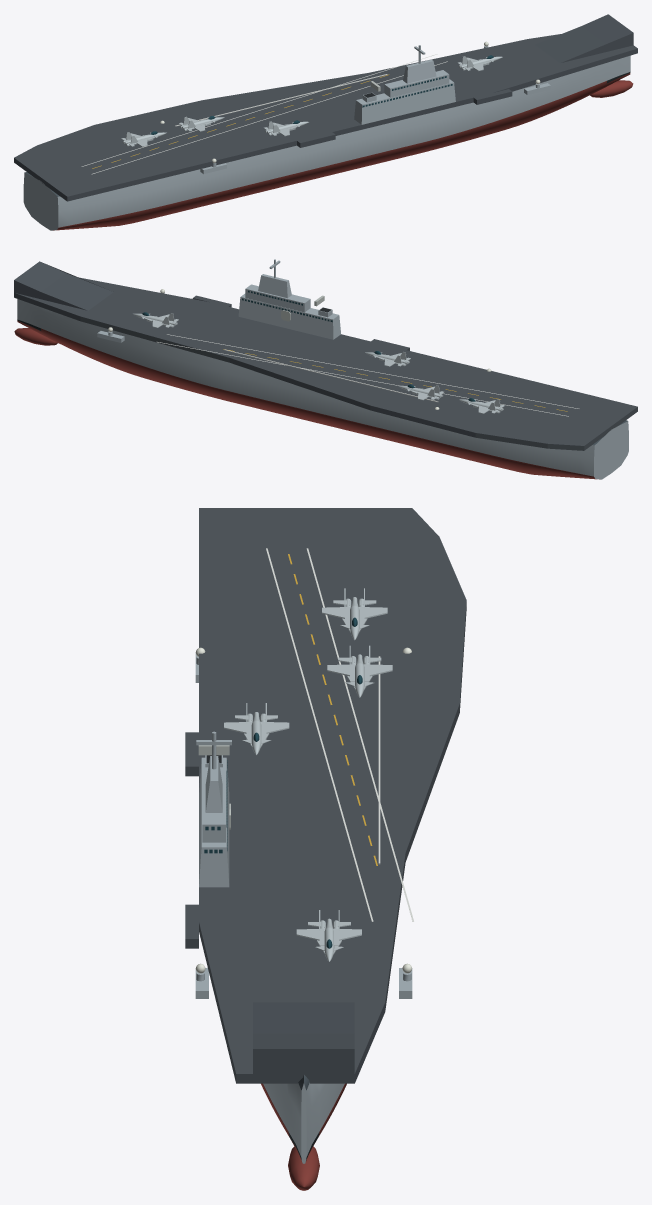
The model's file is pla_cv_shandong.glb.
The picture shows the model from 3 angles, top to bottom: view 1: azimuth 30°, elevation 25°; view 2: azimuth 150°, elevation 25°; view 3: azimuth 270°, elevation 25°; orthographic projection. The views are drawn at different scales.
Parts seen in each view (by area): view 1: flight_deck, naval_paint, antifouling, airframe_light, marking_white, glazing; view 2: flight_deck, naval_paint, antifouling, airframe_light, marking_white, glazing; view 3: flight_deck, naval_paint, airframe_light, marking_white, antifouling.
Boxes of the visible parts, x1,y1,x2,y2 form: flight_deck: [14, 14, 637, 201]; naval_paint: [23, 45, 630, 230]; antifouling: [53, 73, 633, 230]; airframe_light: [121, 56, 502, 146]; marking_white: [81, 54, 447, 174]; glazing: [150, 55, 493, 134]; flight_deck: [14, 261, 637, 450]; naval_paint: [17, 259, 628, 479]; antifouling: [14, 320, 599, 479]; airframe_light: [133, 313, 504, 413]; marking_white: [157, 334, 579, 416]; glazing: [142, 290, 475, 401]; flight_deck: [185, 508, 466, 1083]; naval_paint: [195, 653, 412, 1163]; airframe_light: [224, 588, 392, 961]; marking_white: [266, 548, 413, 921]; antifouling: [261, 1083, 346, 1190].
Size of the model in its own units: 10 by 1.94 by 2.06.
